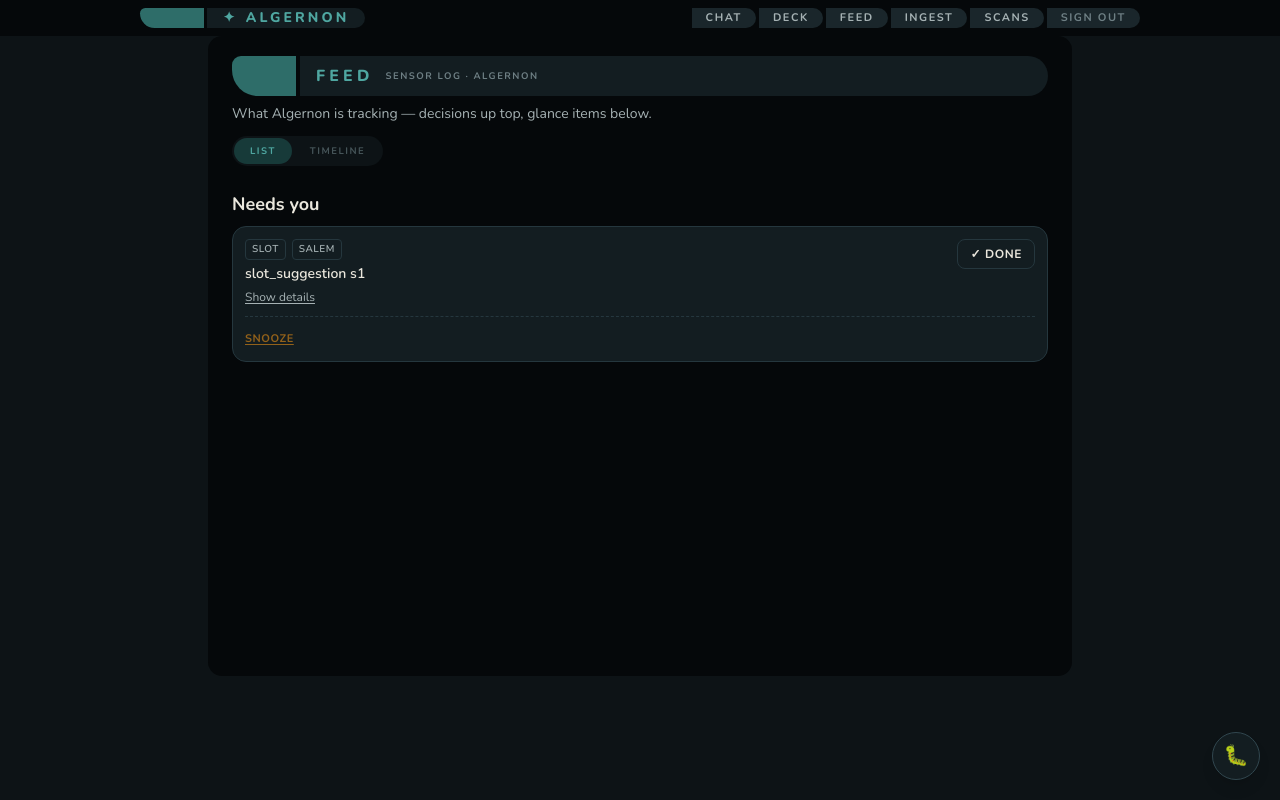
Test: FeedPage — the row Snooze verb (#14) › a slot row offers a LABELLED Snooze opening the four durations
Click the button with test id "feed-row-snooze".
click(269, 340)  # box 245,331 -> 294,348
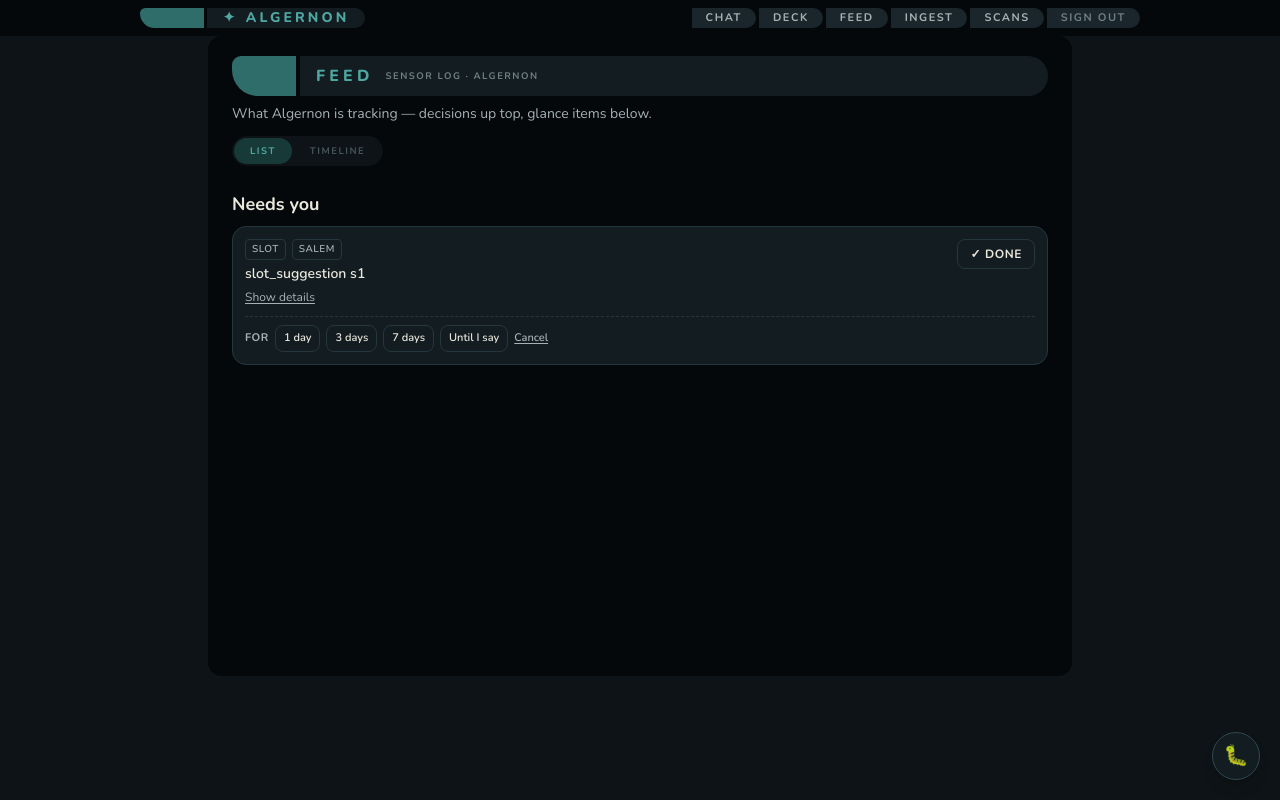
Check: the element with test id "feed-row-snooze-menu" shows "1 day", box 275,325 -> 320,352
Check: the element with test id "feed-row-snooze-menu" shows "3 days", box 326,325 -> 377,352
Check: the element with test id "feed-row-snooze-menu" shows "7 days", box 383,325 -> 434,352
